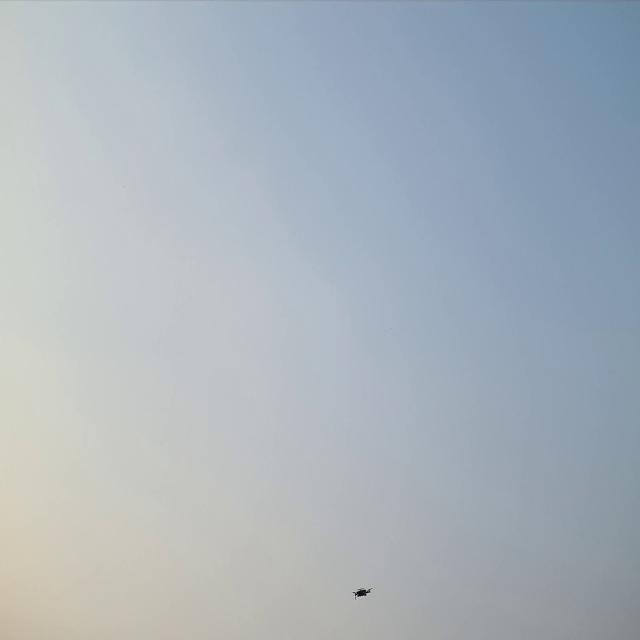UAV: (352, 583, 374, 601)
